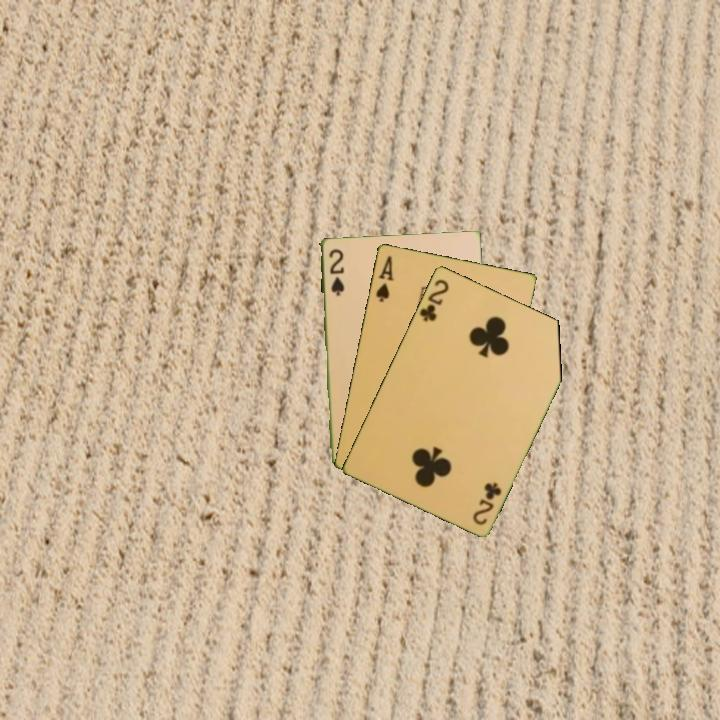2c: (416, 275, 452, 324), (469, 478, 504, 528)
2s: (325, 245, 347, 298)
As: (372, 252, 396, 305)
